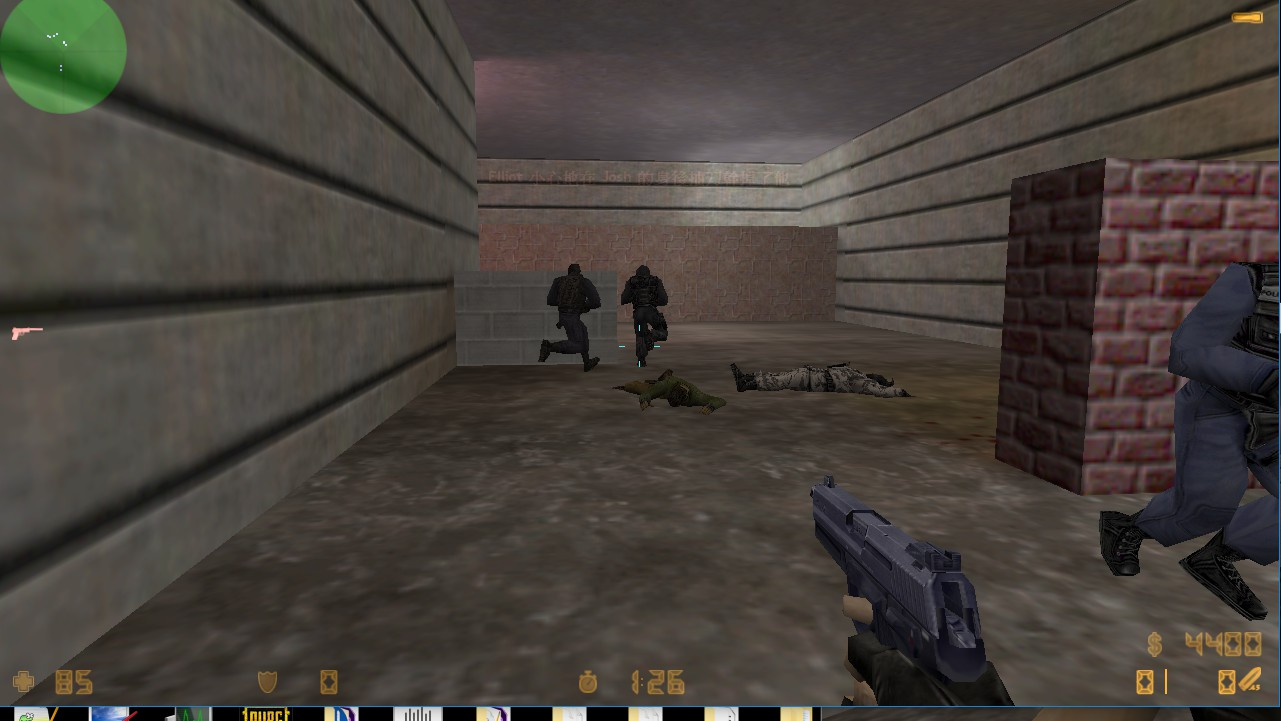person: (537, 258, 608, 377), (615, 260, 675, 365)
